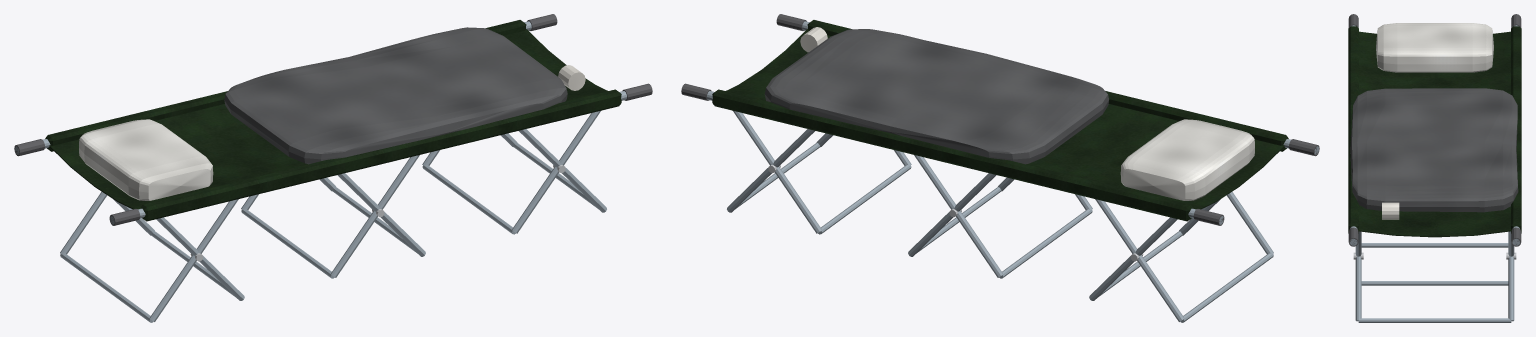
The model's file is maca_campanha.glb.
The picture shows the model from 3 angles, left to right: view 1: azimuth 30°, elevation 25°; view 2: azimuth 150°, elevation 25°; view 3: azimuth 270°, elevation 25°; orthographic projection. The views are drawn at different scales.
Visible parts, largest first — view 1: maca_campanha_cobertor_cinza, maca_campanha_lona_verde, maca_campanha_aco_pintado, maca_campanha_travesseiro, maca_campanha_borracha, maca_campanha_atadura; view 2: maca_campanha_cobertor_cinza, maca_campanha_lona_verde, maca_campanha_aco_pintado, maca_campanha_travesseiro, maca_campanha_borracha, maca_campanha_atadura; view 3: maca_campanha_cobertor_cinza, maca_campanha_lona_verde, maca_campanha_travesseiro, maca_campanha_aco_pintado, maca_campanha_borracha, maca_campanha_atadura.
Boxes of the visible parts, x1=… form: maca_campanha_cobertor_cinza: x1=224, y1=27, x2=567, y2=164; maca_campanha_lona_verde: x1=45, y1=20, x2=621, y2=221; maca_campanha_aco_pintado: x1=15, y1=21, x2=626, y2=322; maca_campanha_travesseiro: x1=79, y1=119, x2=213, y2=200; maca_campanha_borracha: x1=14, y1=14, x2=652, y2=225; maca_campanha_atadura: x1=558, y1=65, x2=585, y2=90; maca_campanha_cobertor_cinza: x1=764, y1=29, x2=1108, y2=164; maca_campanha_lona_verde: x1=712, y1=20, x2=1288, y2=221; maca_campanha_aco_pintado: x1=707, y1=21, x2=1318, y2=322; maca_campanha_travesseiro: x1=1120, y1=119, x2=1254, y2=200; maca_campanha_borracha: x1=681, y1=14, x2=1319, y2=225; maca_campanha_atadura: x1=800, y1=27, x2=827, y2=52; maca_campanha_cobertor_cinza: x1=1350, y1=88, x2=1518, y2=212; maca_campanha_lona_verde: x1=1348, y1=26, x2=1521, y2=237; maca_campanha_travesseiro: x1=1376, y1=23, x2=1493, y2=72; maca_campanha_aco_pintado: x1=1349, y1=25, x2=1519, y2=322; maca_campanha_borracha: x1=1348, y1=14, x2=1521, y2=246; maca_campanha_atadura: x1=1382, y1=202, x2=1399, y2=219.
Size of the model in its own units: 2.15 by 0.5096 by 0.704.
7 materials, 4 textured.
